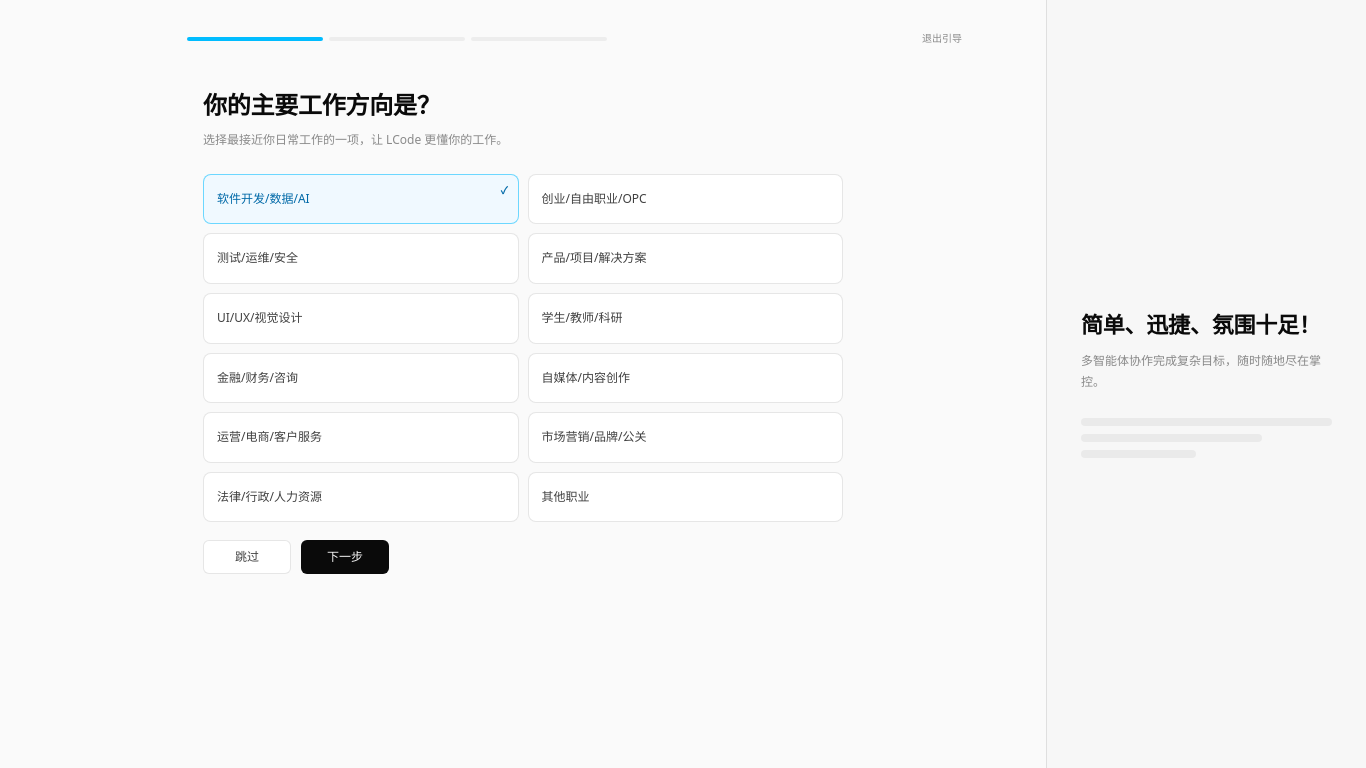
Test: OnboardingView · 新手引导 3 步（B7） › 第 1 步「跳过」直达第 2 步
Click the button "跳过" at (247, 557), box [203, 540, 291, 574]
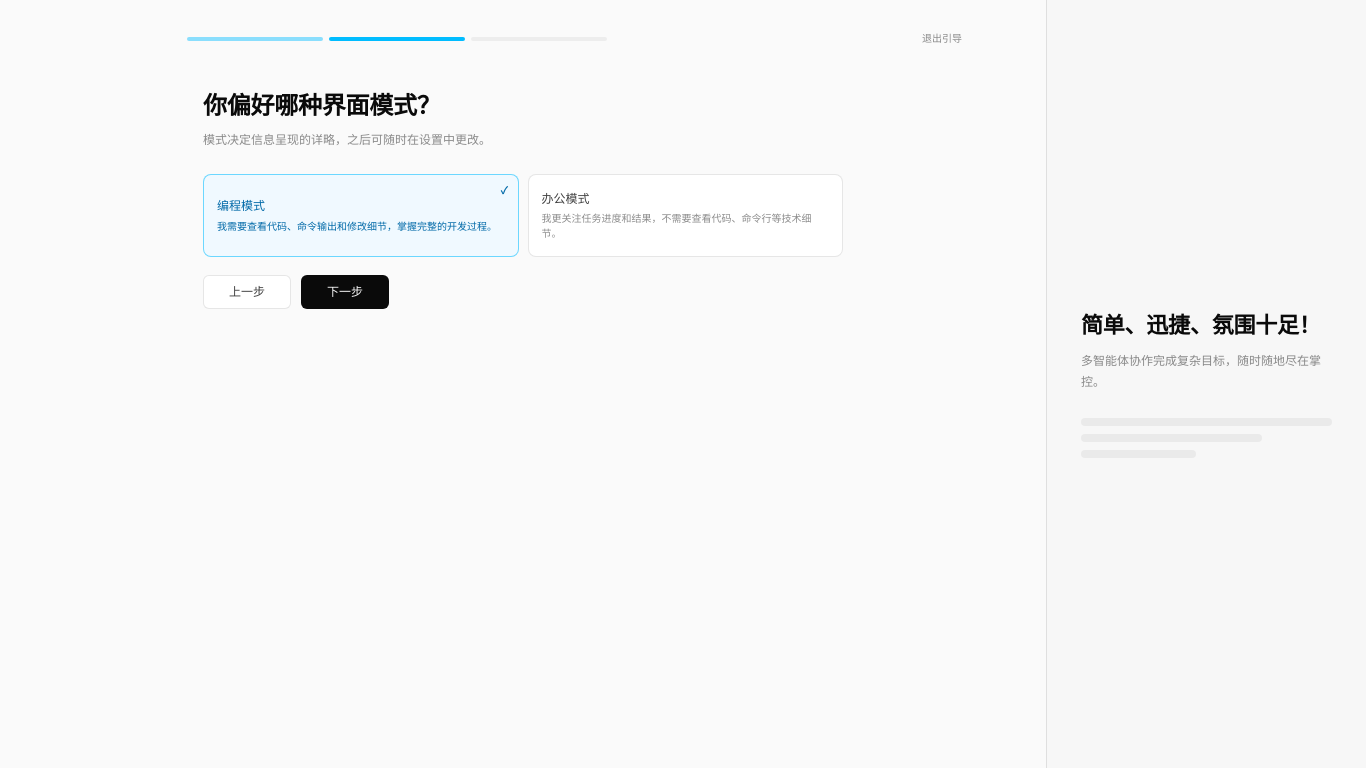
expect the heading "你偏好哪种界面模式？" is shown: met, box [203, 88, 441, 121]
